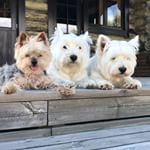puppy: (51, 25, 93, 98), (95, 31, 145, 91), (13, 27, 50, 95)
